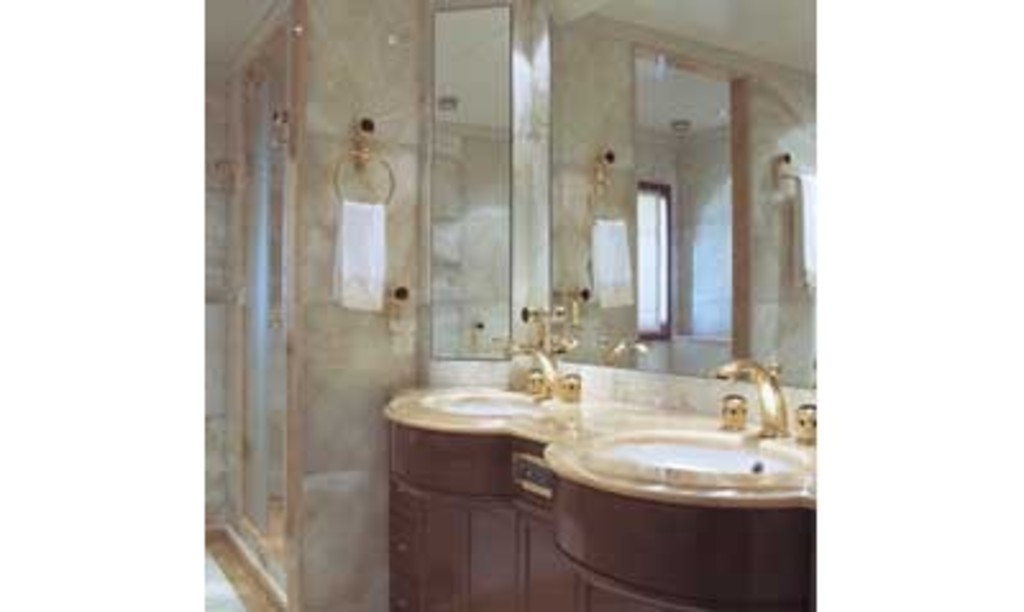tap: (711, 353, 791, 432)
